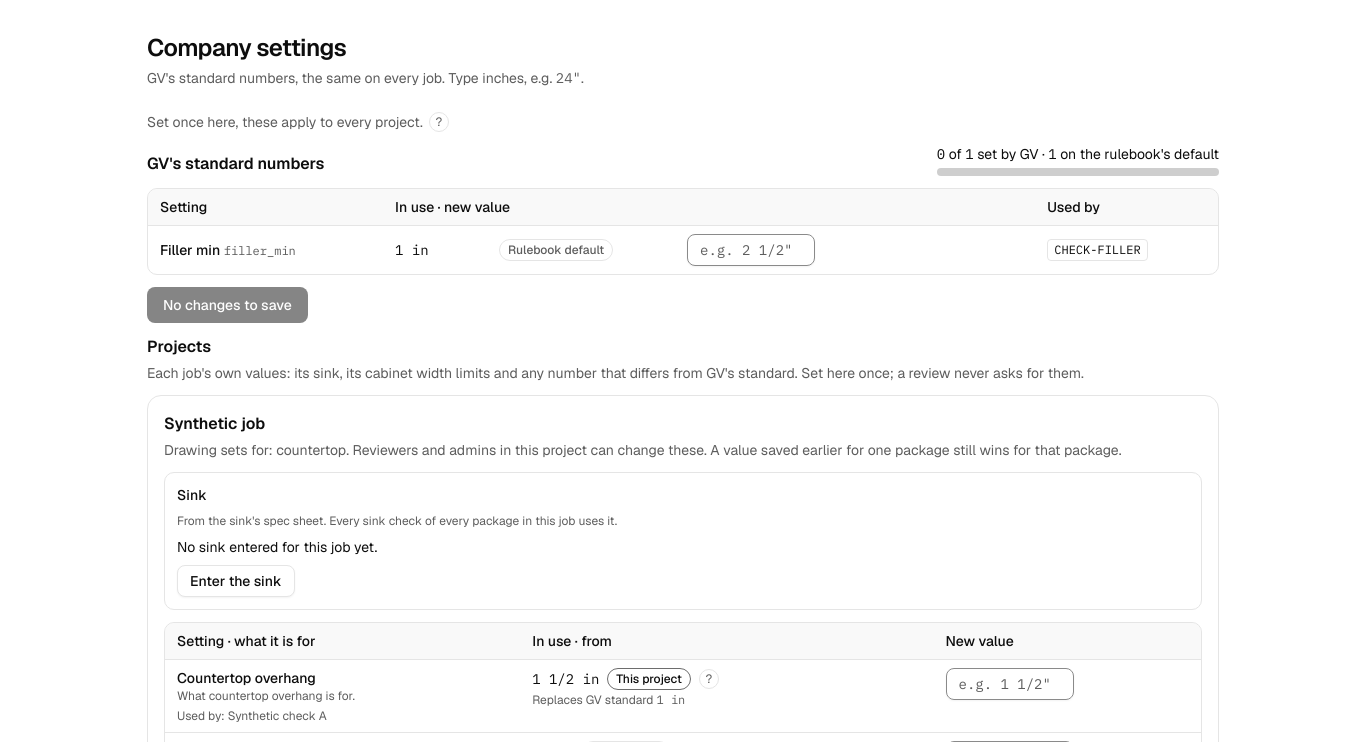
Projects: what overrides what, and where it came from (#1369 item 2) › asks for the unit in plain words before sending a bare number
In the field named "New value for Countertop overhang": (1010, 684) [946,668,1074,700], type "2"
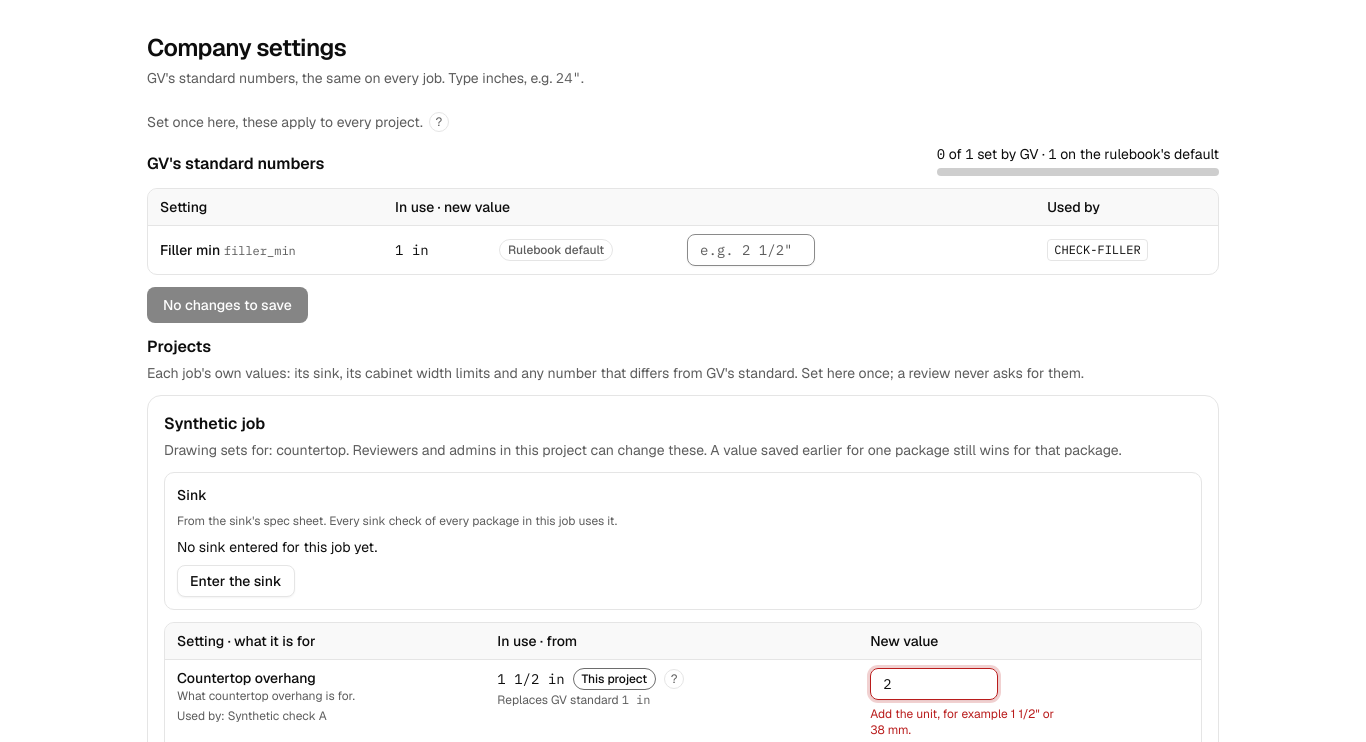
Expected: the text "Add the unit, for example 1 1/2\" or 38 mm." is shown, [870,706,1062,738]
In the field named "New value for Countertop overhang": (934, 684) [870,668,998,700], type "\""
(page scrolled)
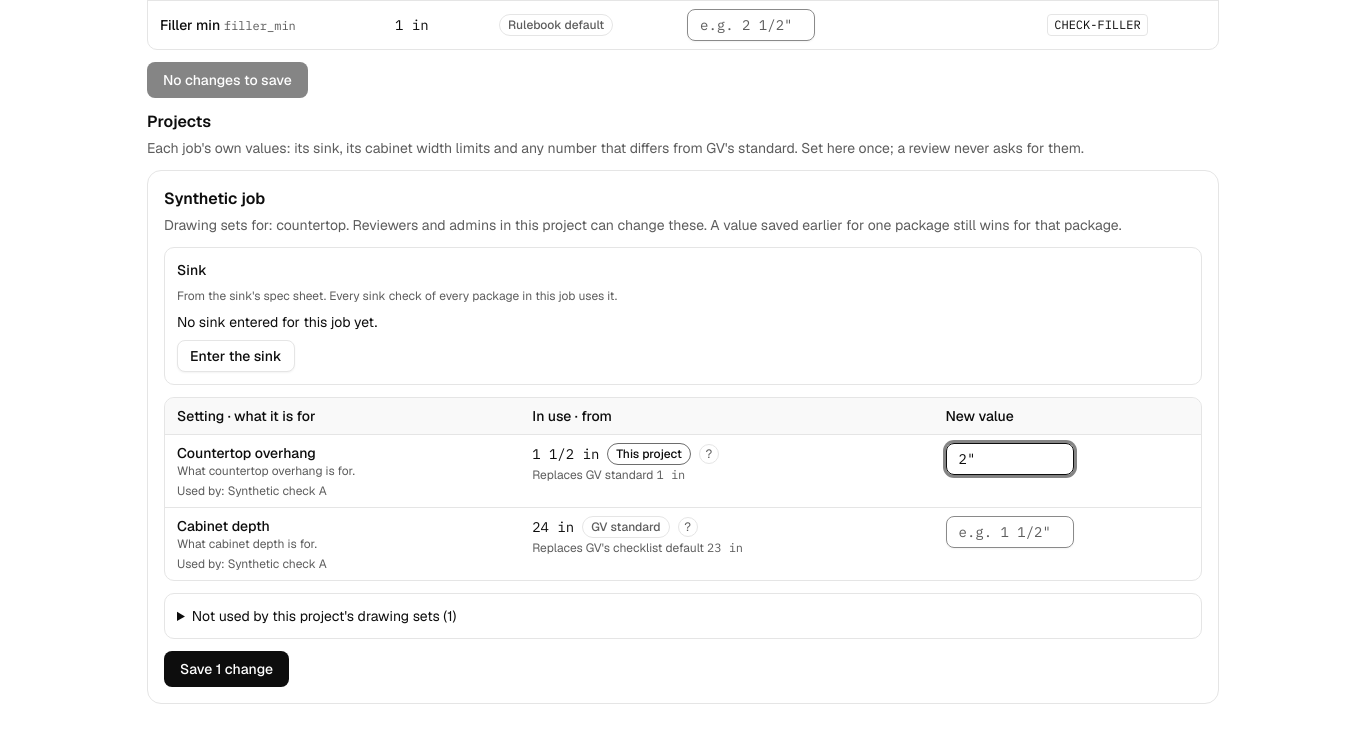
Expected: the button "Save 1 change" is enabled, [164,651,289,687]
